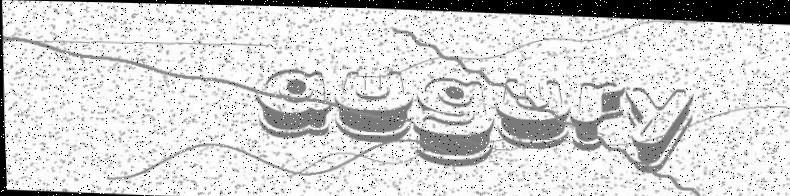a: (252, 65, 333, 138)
g: (410, 73, 497, 166)
r: (567, 77, 626, 152)
u: (331, 67, 413, 142), (493, 75, 570, 148)
y: (622, 82, 695, 171)
